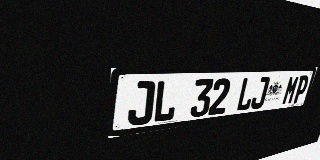2: (208, 78, 232, 115)
3: (189, 79, 214, 118)
J: (127, 81, 156, 127), (249, 77, 271, 110)
L: (152, 80, 179, 123), (235, 77, 257, 112)
M: (281, 76, 300, 105)
P: (292, 75, 310, 104)
